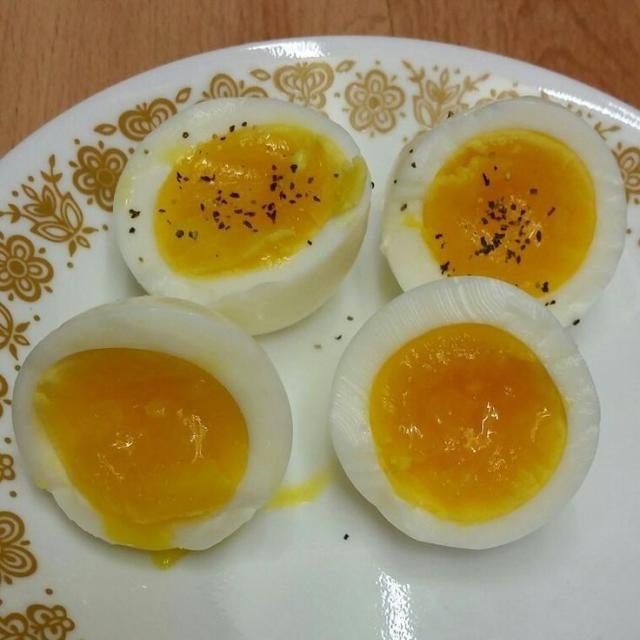egg boiled: (330, 277, 599, 548), (13, 298, 292, 549), (114, 98, 371, 334), (381, 97, 626, 325)
